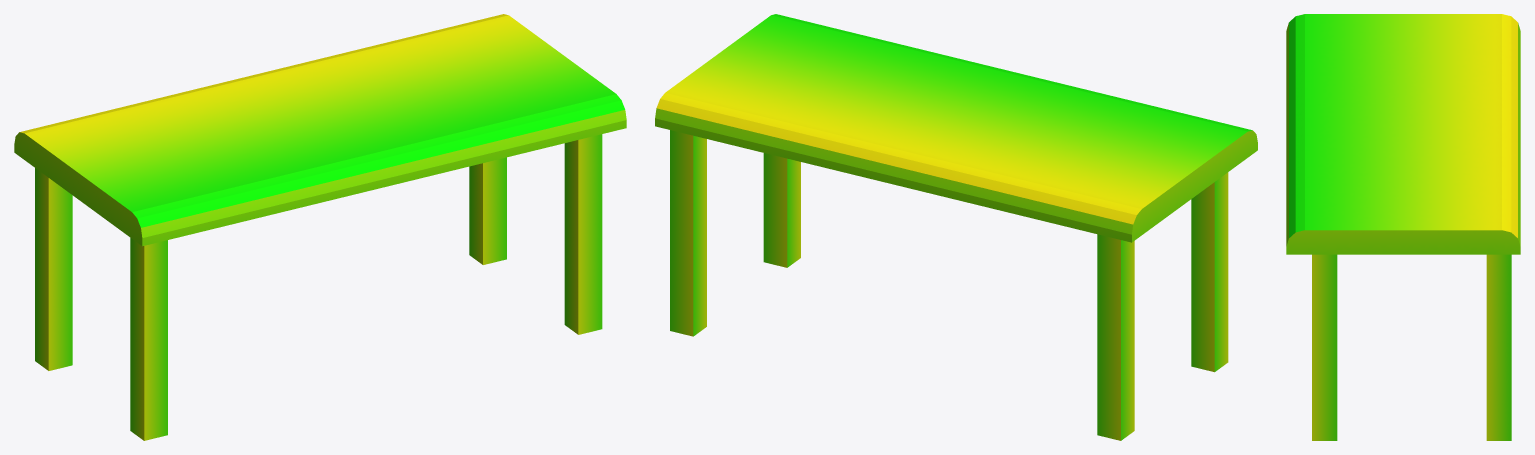
The model's file is table.glb.
3 views of the same model, side by side, from view 1: azimuth 30°, elevation 25°; view 2: azimuth 150°, elevation 25°; view 3: azimuth 270°, elevation 25° (orthographic). The views are drawn at different scales.
Parts seen in each view (by area): view 1: table, table_leg4, table_leg1, table_leg2, table_leg3; view 2: table, table_leg2, table_leg3, table_leg1, table_leg4; view 3: table, table_leg4, table_leg3.
Boxes of the visible parts, box(x1,y1,x2,y2) form: table: box(14, 14, 626, 246); table_leg4: box(564, 134, 602, 334); table_leg1: box(130, 238, 167, 440); table_leg2: box(35, 168, 72, 370); table_leg3: box(469, 157, 506, 264); table: box(655, 14, 1257, 242); table_leg2: box(1097, 234, 1134, 440); table_leg3: box(670, 130, 706, 336); table_leg1: box(1191, 172, 1228, 372); table_leg4: box(763, 153, 800, 267); table: box(1286, 14, 1520, 254); table_leg4: box(1312, 254, 1337, 440); table_leg3: box(1486, 254, 1511, 440).
Bounding box in the file's own units: 2.78 × 1.29 × 1.27.
Materials: 1 (1 with a texture image).
